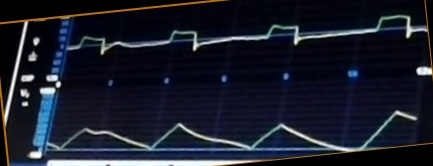Premature_cycling Flow: (70, 15, 426, 64)
Premature_cycling Volume: (52, 108, 417, 157)
